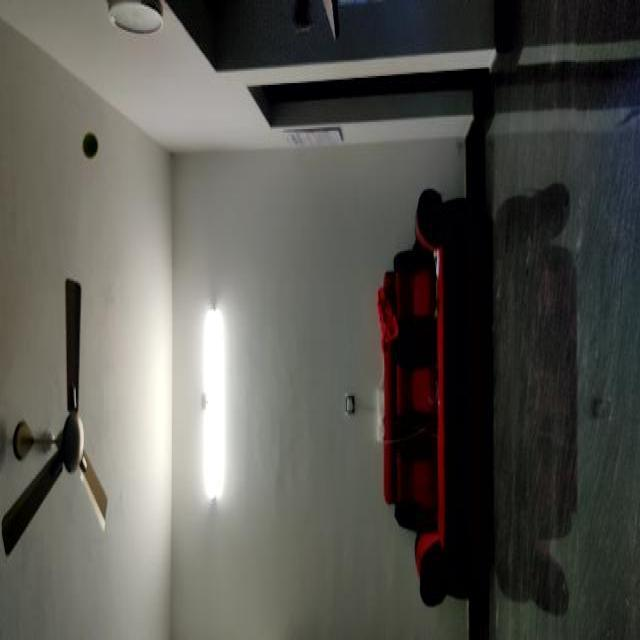tennis-ball: (82, 131, 98, 157)
